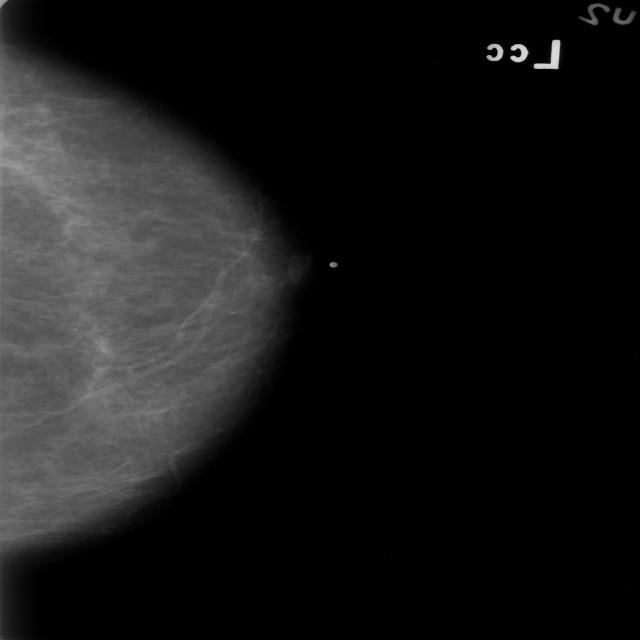normal: (0, 53, 317, 546)
